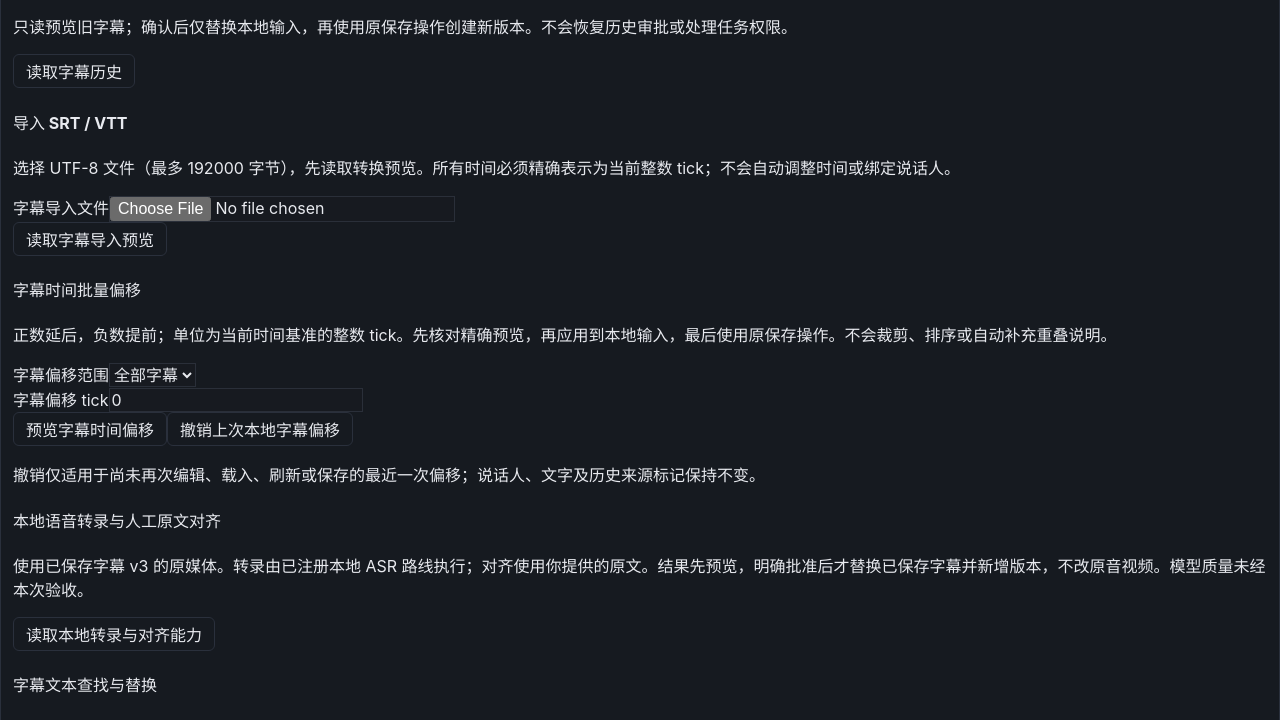
invalidates undo after refresh without overwriting newer input
(page scrolled)
Replace the text in the field labelled "字幕偏移 tick" with "10" at (236, 400), box top-left (108, 388), bottom-right (362, 412)
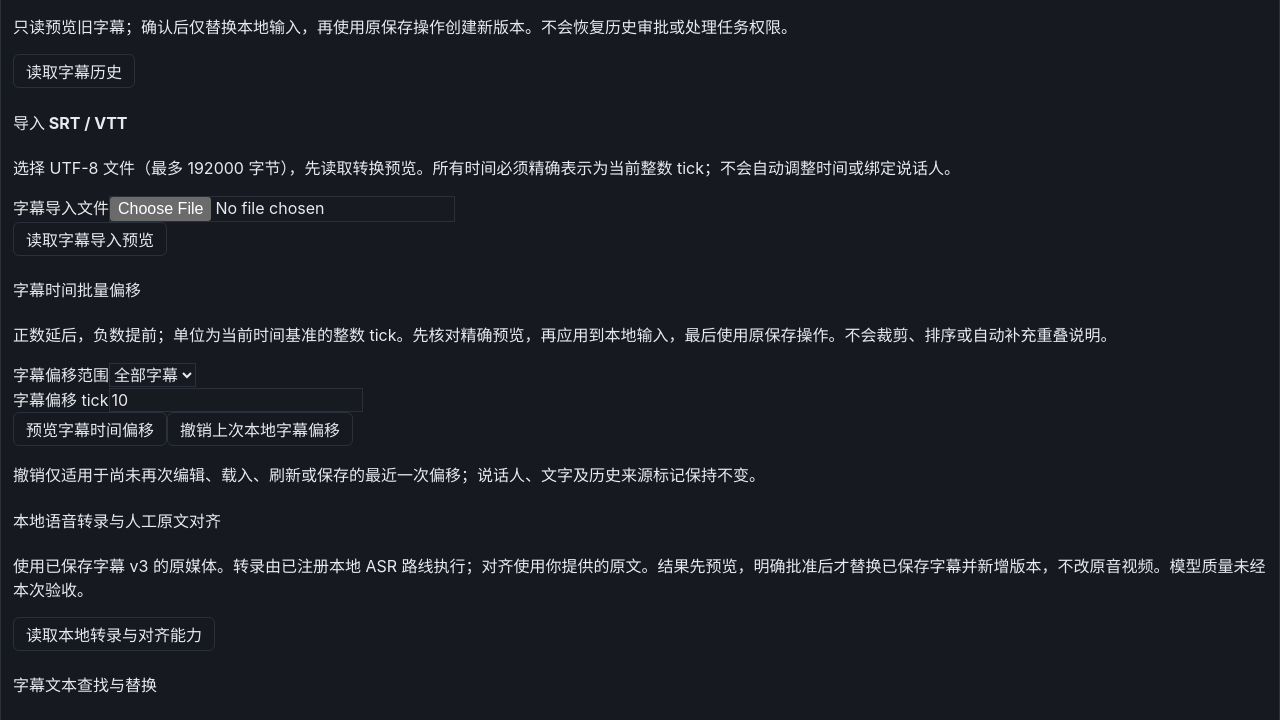
Click the button "预览字幕时间偏移" at (90, 429), box top-left (13, 412), bottom-right (167, 446)
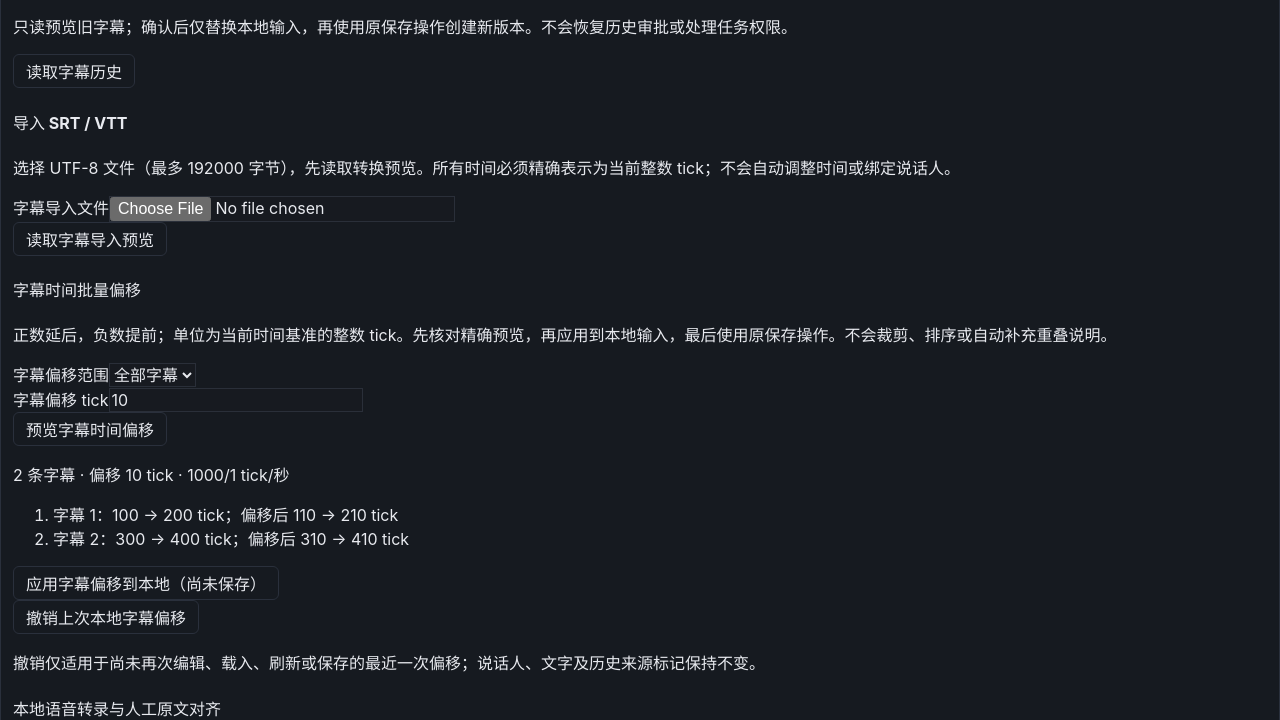
Click the button "应用字幕偏移到本地（尚未保存）" at (146, 583), box top-left (13, 566), bottom-right (279, 600)
(page scrolled)
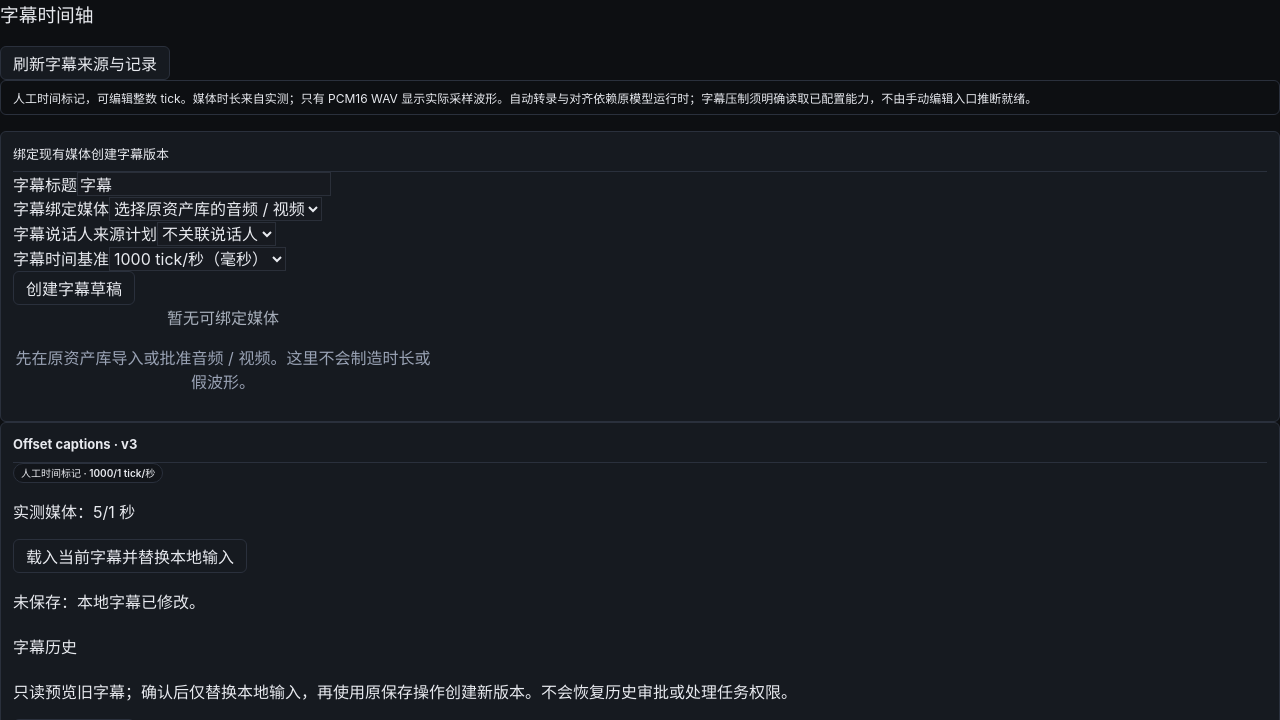
Click the button "刷新字幕来源与记录" at (85, 63), box top-left (0, 46), bottom-right (170, 80)
(page scrolled)
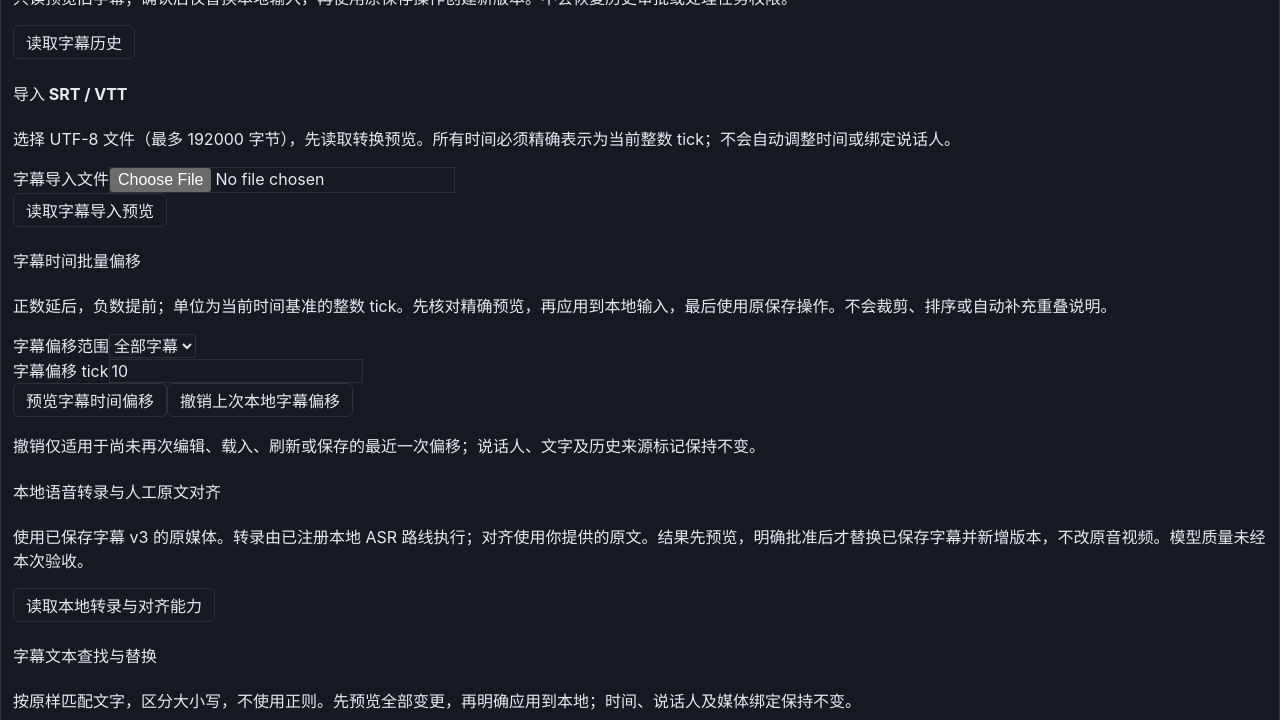
Expected: the button "撤销上次本地字幕偏移" is disabled, top-left (167, 383), bottom-right (353, 417)
